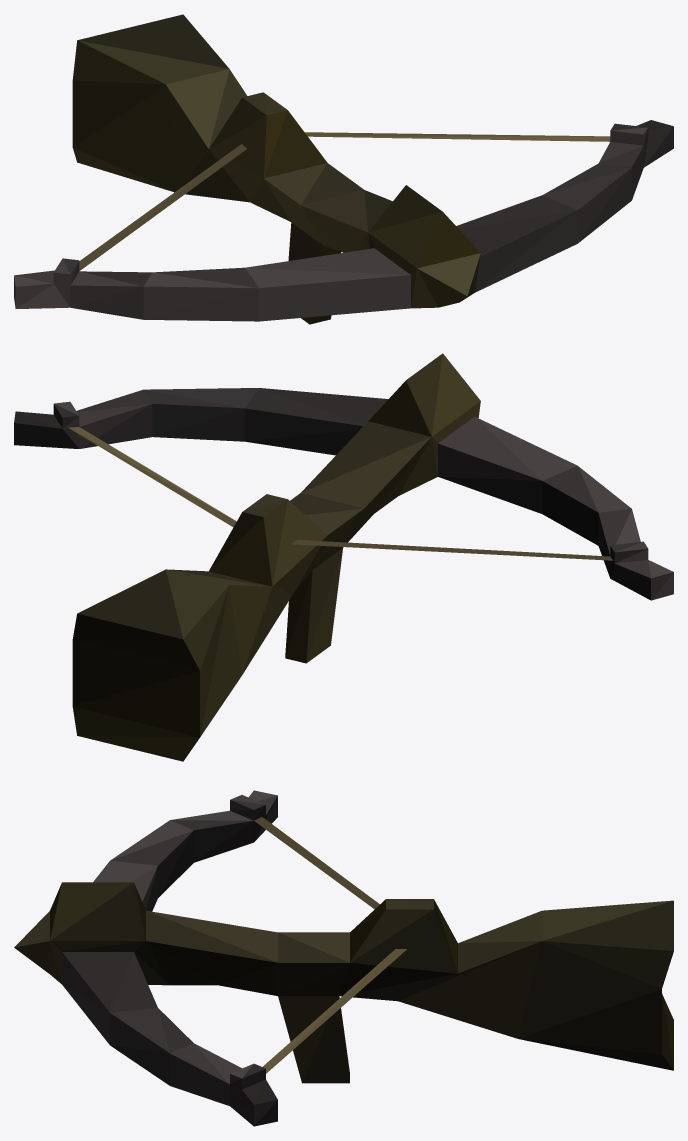
File: iron-crossbow.obj
3 renders of one model, top to bottom at view 1: azimuth 30°, elevation 25°; view 2: azimuth 150°, elevation 25°; view 3: azimuth 270°, elevation 25°, orthographic. The views are drawn at different scales.
Parts seen in each view (by area): view 1: Item Iron crossbow 2026-09-24_13-53-22; view 2: Item Iron crossbow 2026-09-24_13-53-22; view 3: Item Iron crossbow 2026-09-24_13-53-22.
Part boxes in pixels (<box>): Item Iron crossbow 2026-09-24_13-53-22: <box>14,14,673,324</box>; Item Iron crossbow 2026-09-24_13-53-22: <box>14,353,673,761</box>; Item Iron crossbow 2026-09-24_13-53-22: <box>14,790,673,1126</box>.
Size of the model in its own units: 62 by 18 by 55.
